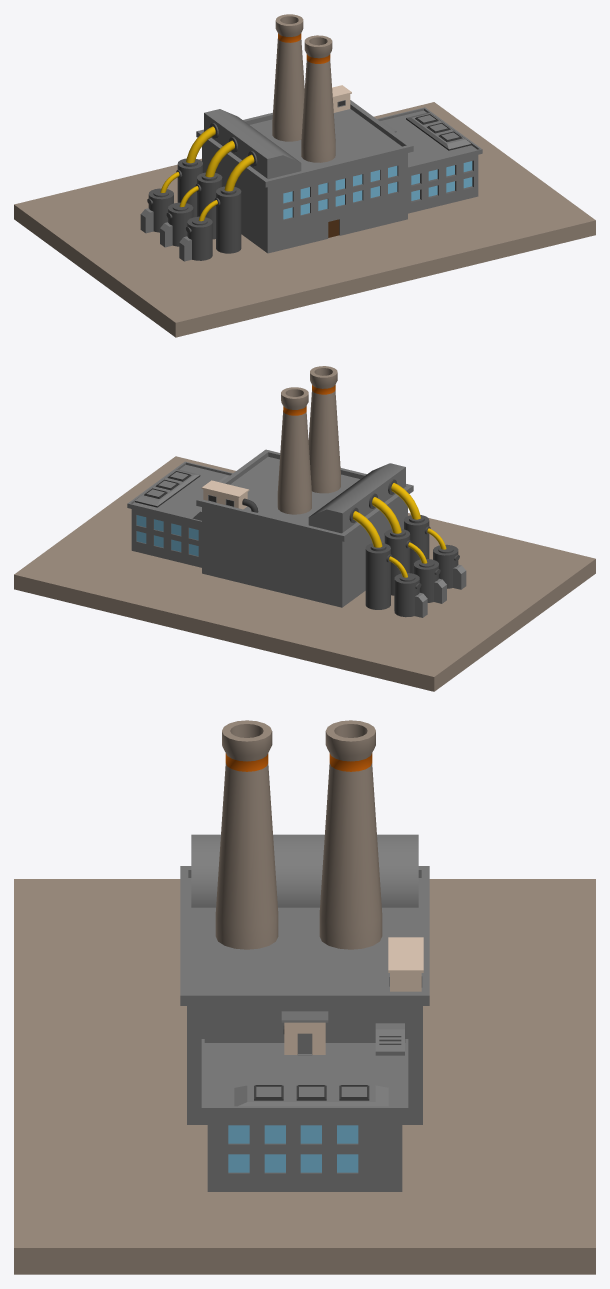
Rendered from Plastic Meltdown.fbx.
3 views of the same model, one above another, from view 1: azimuth 30°, elevation 25°; view 2: azimuth 150°, elevation 25°; view 3: azimuth 270°, elevation 25° (orthographic). The views are drawn at different scales.
Visible parts, largest first — view 1: base.006, main building.005, chimney a, Containers big.002, roof Cube, Containers small, pipes up, air vent.002, outside compuers, air pump.001, pips douwn; view 2: base.006, main building.005, chimney a, Containers big.002, roof Cube, Containers small, pipes up, air vent.002, air pump.001, outside compuers, pips douwn; view 3: base.006, main building.005, chimney a, roof Cube, air vent.002, exit, air pump.001, air vent small.002.
Part boxes in pixels (x1,y1,x2,y2): base.006: (14, 102, 595, 337); main building.005: (196, 100, 482, 253); chimney a: (272, 14, 335, 162); Containers big.002: (176, 158, 241, 253); roof Cube: (204, 109, 301, 179); Containers small: (147, 188, 212, 260); pipes up: (186, 126, 254, 191); air vent.002: (406, 112, 471, 150); outside compuers: (140, 208, 191, 261); air pump.001: (332, 85, 351, 112); pips douwn: (160, 172, 217, 221); base.006: (14, 456, 595, 691); main building.005: (127, 449, 413, 607); chimney a: (277, 366, 340, 514); Containers big.002: (365, 515, 430, 609); roof Cube: (308, 463, 405, 533); Containers small: (394, 544, 459, 617); pipes up: (352, 483, 420, 547); air vent.002: (135, 469, 200, 507); air pump.001: (201, 480, 258, 512); outside compuers: (415, 564, 466, 617); pips douwn: (389, 528, 446, 577); base.006: (14, 879, 595, 1274); main building.005: (180, 866, 429, 1191); chimney a: (215, 720, 382, 949); roof Cube: (191, 834, 418, 907); air vent.002: (234, 1085, 388, 1106); exit: (281, 1011, 328, 1055); air pump.001: (388, 937, 423, 991); air vent small.002: (375, 1023, 404, 1055).
Size of the model in its own units: 836 by 377 by 558.
